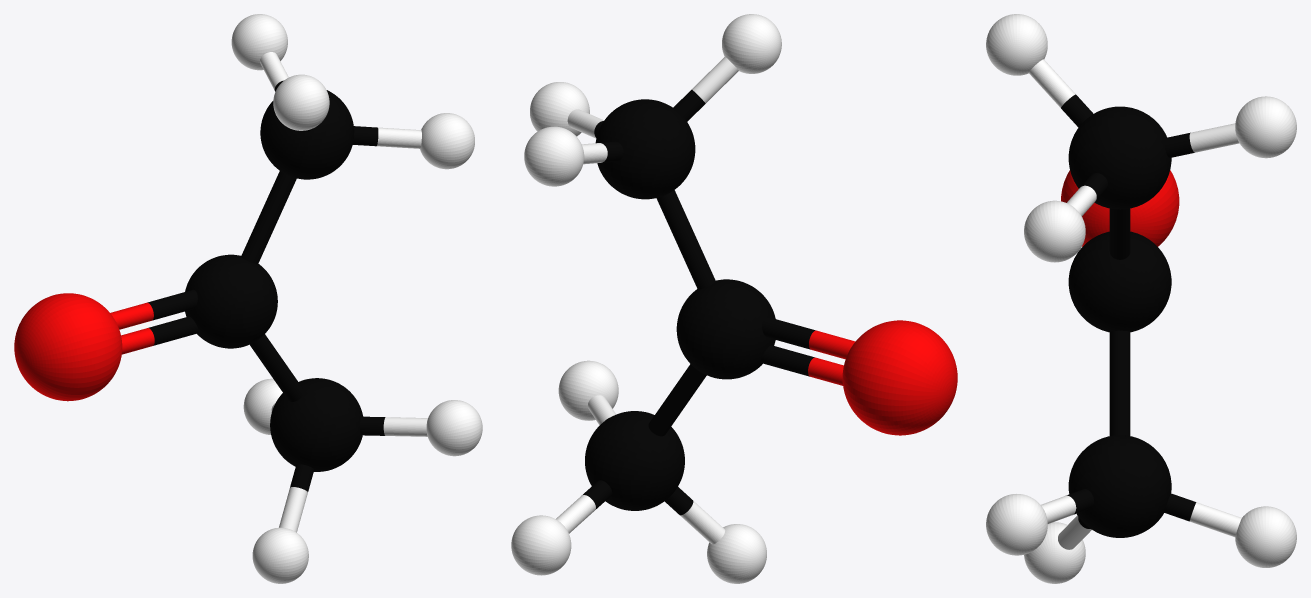
The model's file is Propanona.glb.
3 views of the same model, side by side, from view 1: azimuth 30°, elevation 25°; view 2: azimuth 150°, elevation 25°; view 3: azimuth 270°, elevation 25° (orthographic). The views are drawn at different scales.
Visible parts, largest first — view 1: Esfera_UV.004, Esfera_UV.001, Esfera_UV.002, Esfera_UV, Esfera_UV.009, Esfera_UV.005, Esfera_UV.006, Esfera_UV.007, Esfera_UV.008, Cilindro.002, Cilindro.000, Cilindro.003 (+6 smaller); view 2: Esfera_UV.004, Esfera_UV.001, Esfera_UV, Esfera_UV.002, Esfera_UV.008, Esfera_UV.003, Esfera_UV.009, Esfera_UV.005, Esfera_UV.006, Esfera_UV.007, Cilindro.002, Cilindro.000 (+7 smaller); view 3: Esfera_UV.002, Esfera_UV.001, Esfera_UV, Esfera_UV.004, Esfera_UV.007, Esfera_UV.006, Esfera_UV.008, Esfera_UV.003, Esfera_UV.009, Cilindro.001, Esfera_UV.005, Cilindro.005 (+6 smaller).
Part boxes in pixels (box(x1,y1,x2,y2)): Esfera_UV.004: box(14, 293, 122, 401); Esfera_UV.001: box(185, 254, 277, 348); Esfera_UV.002: box(270, 378, 363, 471); Esfera_UV: box(260, 90, 354, 179); Esfera_UV.009: box(273, 74, 329, 130); Esfera_UV.005: box(252, 527, 308, 583); Esfera_UV.006: box(426, 400, 482, 456); Esfera_UV.007: box(420, 113, 474, 169); Esfera_UV.008: box(231, 14, 287, 70); Cilindro.002: box(241, 171, 296, 264); Cilindro.000: box(110, 289, 197, 329); Cilindro.003: box(121, 316, 198, 354); Esfera_UV.004: box(842, 320, 957, 435); Esfera_UV.001: box(676, 279, 775, 379); Esfera_UV: box(595, 99, 695, 199); Esfera_UV.002: box(585, 411, 684, 510); Esfera_UV.008: box(524, 126, 584, 186); Esfera_UV.003: box(511, 515, 571, 575); Esfera_UV.009: box(722, 14, 781, 73); Esfera_UV.005: box(707, 524, 766, 583); Esfera_UV.006: box(558, 360, 618, 420); Esfera_UV.007: box(530, 82, 589, 136); Cilindro.002: box(656, 190, 715, 289); Cilindro.000: box(762, 317, 855, 359); Esfera_UV.002: box(1068, 435, 1171, 537); Esfera_UV.001: box(1068, 231, 1171, 332); Esfera_UV: box(1068, 106, 1171, 209); Esfera_UV.004: box(1061, 170, 1179, 246); Esfera_UV.007: box(1024, 200, 1085, 262); Esfera_UV.006: box(986, 494, 1047, 555); Esfera_UV.008: box(1235, 96, 1296, 158); Esfera_UV.003: box(1235, 506, 1296, 567); Esfera_UV.009: box(986, 14, 1047, 75); Cilindro.001: box(1109, 330, 1130, 435); Esfera_UV.005: box(1024, 522, 1085, 583); Cilindro.005: box(1164, 493, 1241, 537).
Size of the model in its own units: 10.33 by 12.12 by 6.03.
